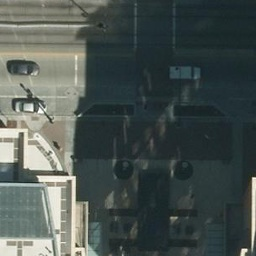car: (167, 63, 201, 82), (10, 59, 38, 76), (15, 101, 46, 116)
